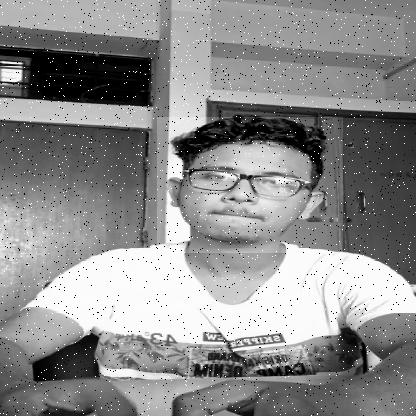Normal: (157, 117, 343, 253)
